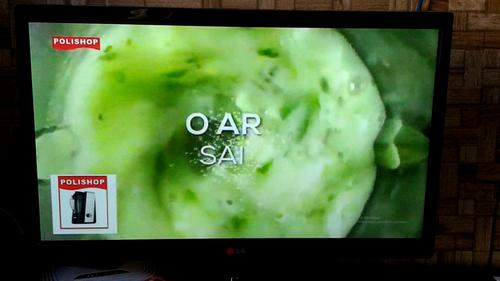Polishop #1: (51, 174, 118, 234)
